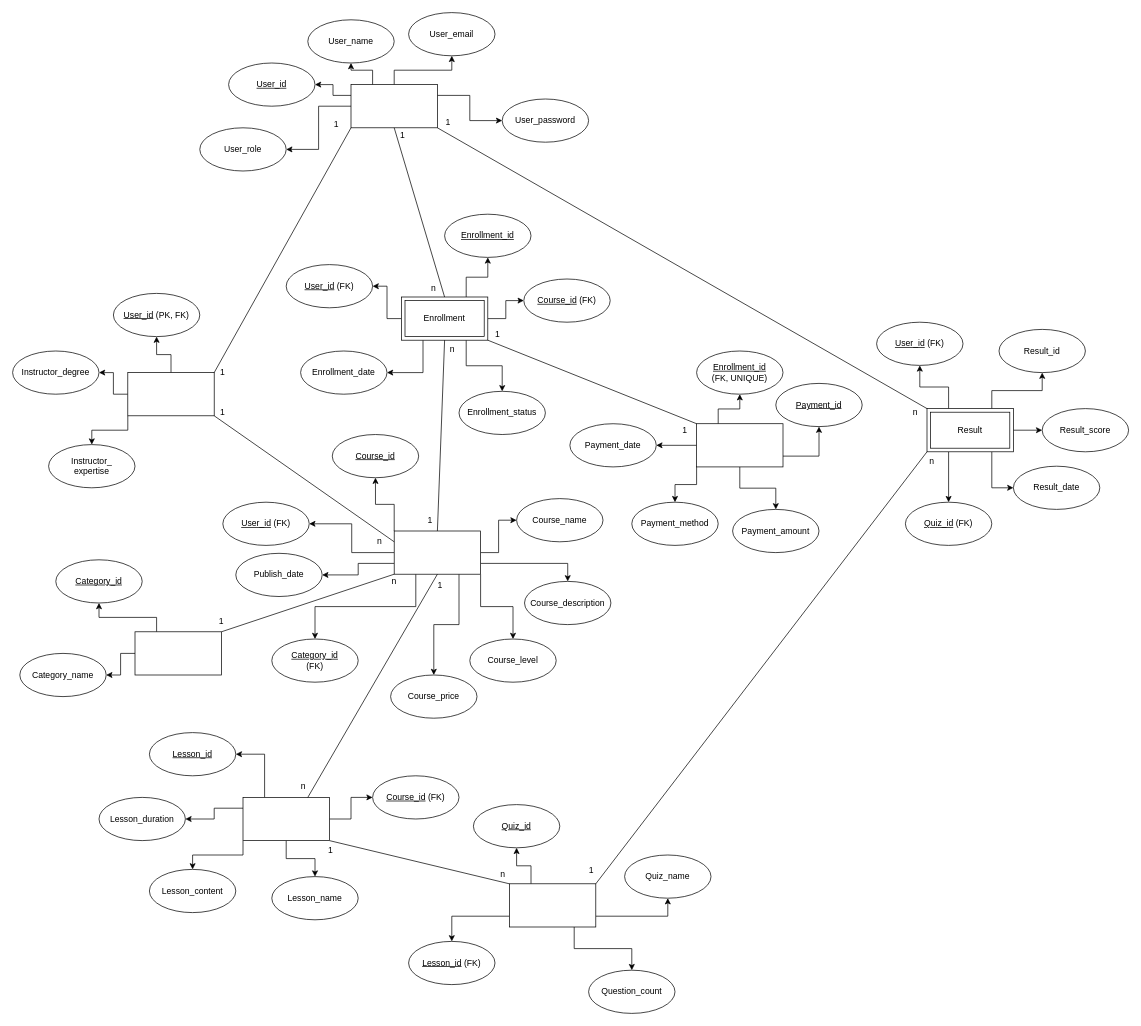
Some shapes in this 1141 by 1026 pixel diagram are drawn without their labels. Each missing label, with the centre of its shape:
Category: the point at 177,653
Course: the point at 437,552
Lesson: the point at 285,819
Payment: the point at 739,445
Quiz: the point at 552,905
User: the point at 393,106
User_Instructor: the point at 170,394
